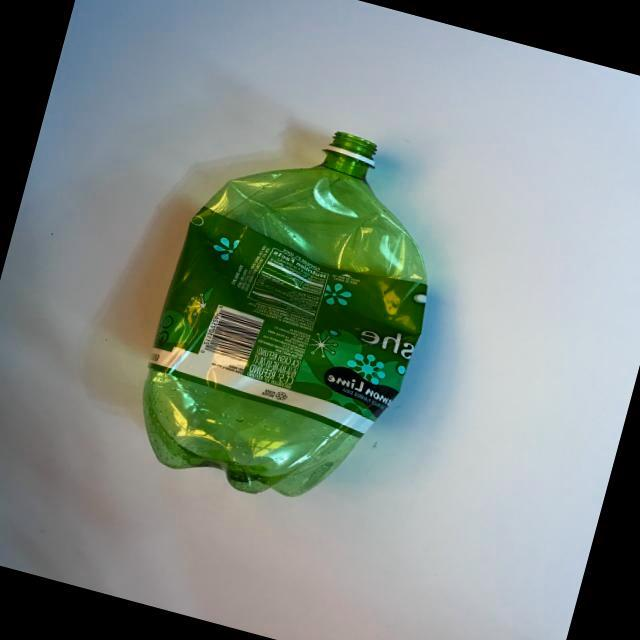plastic: (80, 44, 508, 538)
